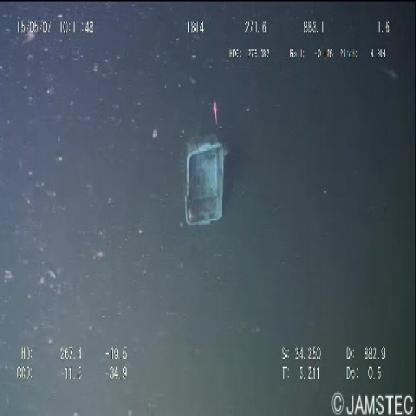Rác: (178, 122, 232, 231)
